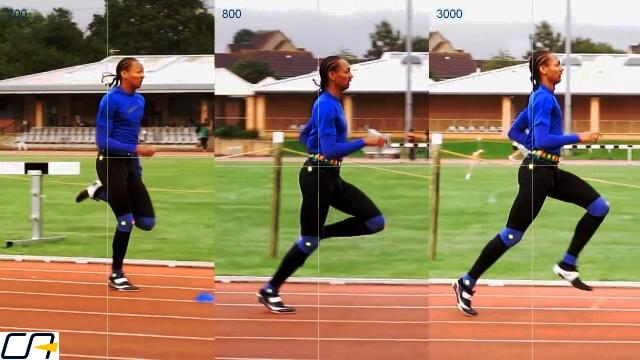berlari: (444, 46, 612, 316), (250, 49, 388, 319), (70, 48, 160, 296)
